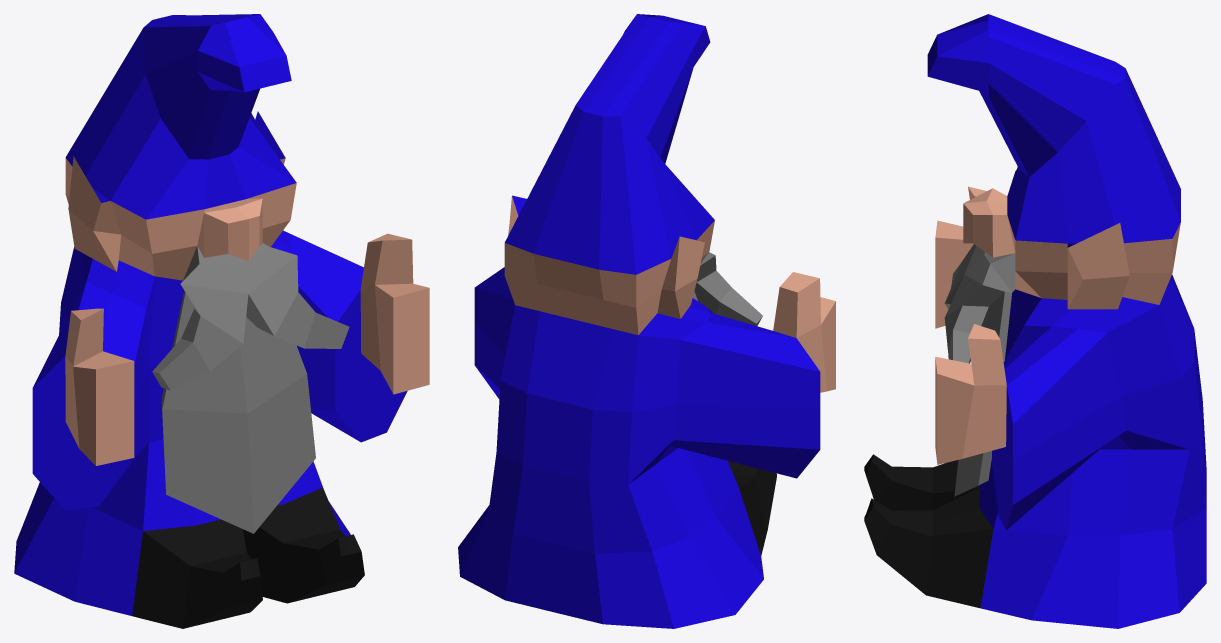
File: gnome.fbx
The picture shows the model from 3 angles, left to right: view 1: azimuth 30°, elevation 25°; view 2: azimuth 150°, elevation 25°; view 3: azimuth 270°, elevation 25°; orthographic projection. The views are drawn at different scales.
Visible parts, largest first — view 1: Cube; view 2: Cube; view 3: Cube.
Part boxes in pixels (left/top/right/bottom): Cube: left=14, top=14, right=429, bottom=628; Cube: left=458, top=14, right=835, bottom=628; Cube: left=864, top=14, right=1206, bottom=628.
Bounding box in the file's own units: 525 × 749 × 435.
